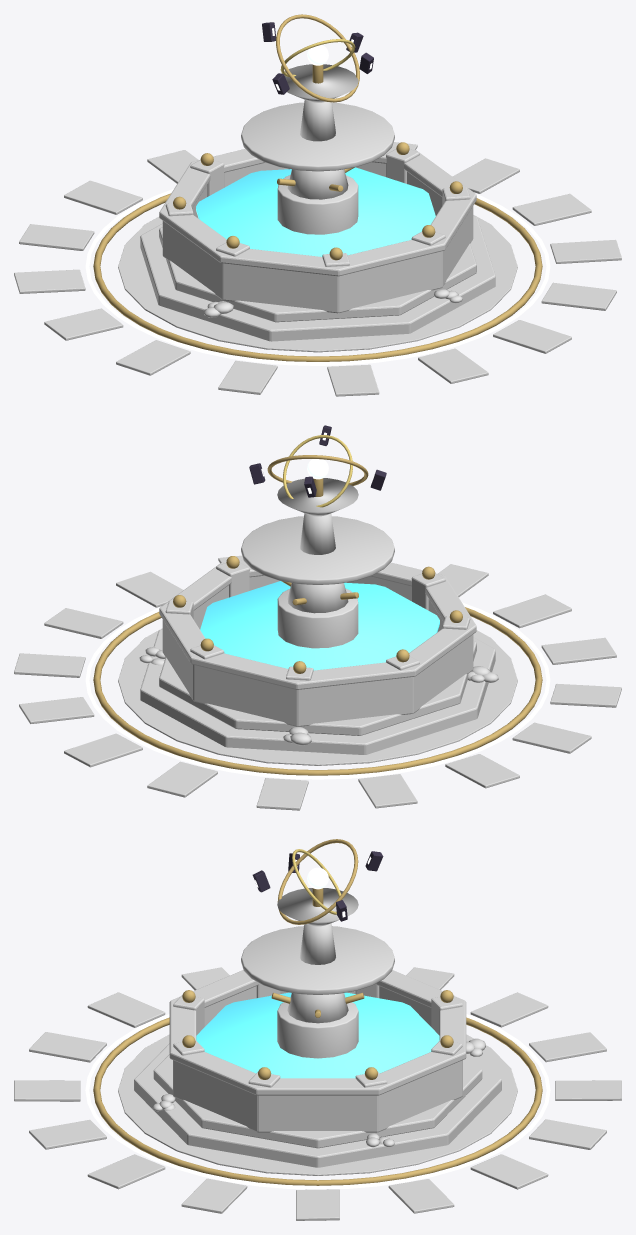
Rendered from SM_Fountain_Central.fbx.
3 renders of one model, top to bottom at view 1: azimuth 30°, elevation 25°; view 2: azimuth 150°, elevation 25°; view 3: azimuth 270°, elevation 25°, orthographic.
Visible parts, largest first — view 1: WaterSurface_Lower, Plinth_Step1, Plaza_WetApron, Bowl_Tier1_Rim, Plaza_RuneRing_Brass, Plinth_Step2, BasinWall_5, BasinWall_6, Plaza_RuneRing_Glow, Pedestal_Base, BasinWall_4, BasinCap_5 (+28 smaller); view 2: WaterSurface_Lower, Plinth_Step1, Plaza_WetApron, Bowl_Tier1_Rim, Plaza_RuneRing_Brass, Plinth_Step2, BasinWall_3, BasinWall_2, Plaza_RuneRing_Glow, Pedestal_Base, BasinWall_4, Bowl_Tier2 (+29 smaller); view 3: WaterSurface_Lower, Plinth_Step1, Plaza_WetApron, Bowl_Tier1_Rim, Plaza_RuneRing_Brass, Plinth_Step2, BasinWall_0, Plaza_RuneRing_Glow, Pedestal_Base, BasinWall_7, BasinWall_1, BasinCap_0 (+28 smaller).
Boxes of the visible parts, box(x1,y1,x2,y2) form: WaterSurface_Lower: box(196, 167, 435, 256); Plinth_Step1: box(140, 215, 495, 341); Plaza_WetApron: box(118, 215, 517, 352); Bowl_Tier1_Rim: box(241, 102, 394, 171); Plaza_RuneRing_Brass: box(93, 193, 542, 361); Plinth_Step2: box(159, 227, 476, 322); BasinWall_5: box(222, 263, 338, 313); BasinWall_6: box(338, 251, 442, 312); Plaza_RuneRing_Glow: box(85, 189, 550, 365); Pedestal_Base: box(277, 175, 358, 234); BasinWall_4: box(162, 221, 222, 299); BasinCap_5: box(220, 249, 339, 276); WaterSurface_Lower: box(200, 581, 439, 670); Plinth_Step1: box(140, 629, 495, 754); Plaza_WetApron: box(118, 628, 517, 765); Bowl_Tier1_Rim: box(241, 516, 394, 584); Plaza_RuneRing_Brass: box(93, 607, 542, 775); Plinth_Step2: box(159, 640, 476, 735); BasinWall_3: box(297, 677, 413, 726); BasinWall_2: box(194, 665, 297, 726); Plaza_RuneRing_Glow: box(85, 602, 550, 779); Pedestal_Base: box(277, 589, 358, 648); BasinWall_4: box(413, 634, 473, 713); Bowl_Tier2: box(277, 478, 358, 516); WaterSurface_Lower: box(196, 992, 439, 1078); Plinth_Step1: box(134, 1043, 501, 1167); Plaza_WetApron: box(118, 1034, 517, 1175); Bowl_Tier1_Rim: box(241, 926, 394, 994); Plaza_RuneRing_Brass: box(93, 1017, 542, 1185); Plinth_Step2: box(153, 1054, 482, 1148); BasinWall_0: box(258, 1095, 377, 1132); Plaza_RuneRing_Glow: box(85, 1014, 550, 1189); Pedestal_Base: box(277, 1002, 358, 1058); BasinWall_7: box(173, 1060, 258, 1132); BasinWall_1: box(378, 1060, 462, 1132); BasinCap_0: box(256, 1078, 379, 1095).
Size of the model in its own units: 7.75 by 3.42 by 7.75.
